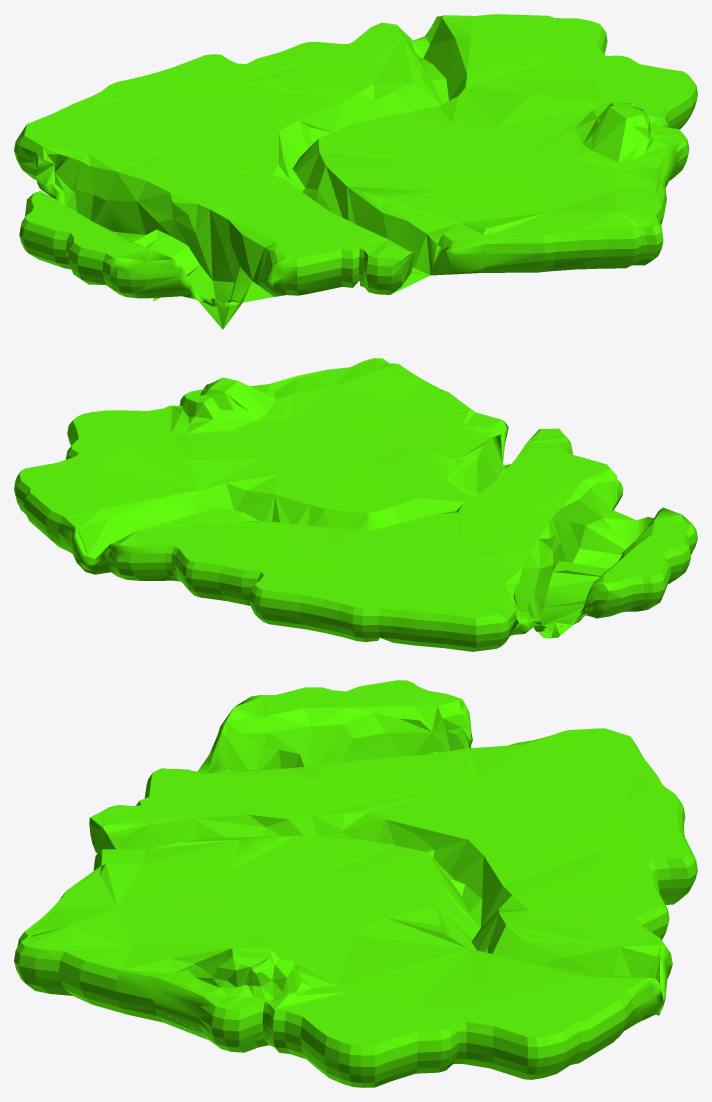
Rendered from levelmap.glb.
The picture shows the model from 3 angles, top to bottom: view 1: azimuth 30°, elevation 25°; view 2: azimuth 150°, elevation 25°; view 3: azimuth 270°, elevation 25°; orthographic projection. The views are drawn at different scales.
Parts seen in each view (by area): view 1: 0_SM_FloatingIsland_S2_26_StaticMeshComponent0; view 2: 0_SM_FloatingIsland_S2_26_StaticMeshComponent0; view 3: 0_SM_FloatingIsland_S2_26_StaticMeshComponent0.
Boxes of the visible parts, <box> form: 0_SM_FloatingIsland_S2_26_StaticMeshComponent0: <box>14,14,697,329</box>; 0_SM_FloatingIsland_S2_26_StaticMeshComponent0: <box>14,358,697,651</box>; 0_SM_FloatingIsland_S2_26_StaticMeshComponent0: <box>14,680,697,1087</box>.
Bounding box in the file's own units: 527 × 76.1 × 410.
